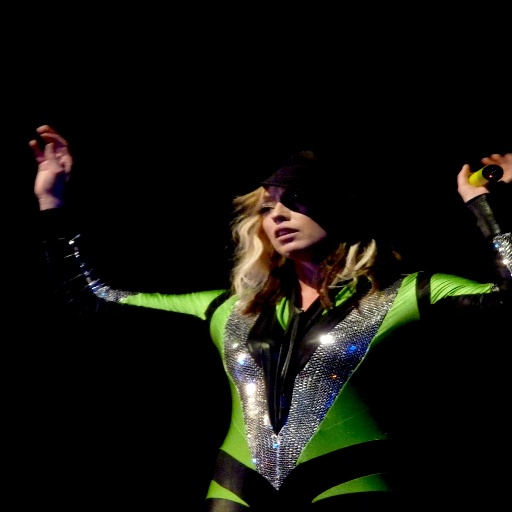hand: (24, 122, 80, 218), (456, 152, 511, 206)
